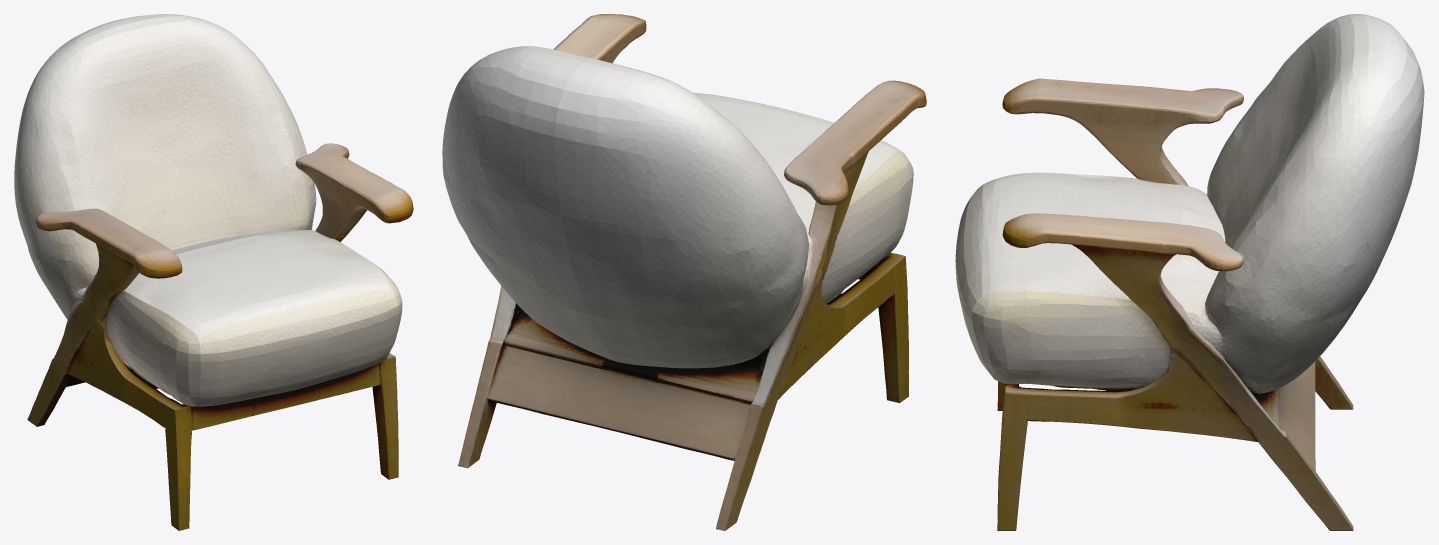
Rendered from SILLON AUREN.glb.
3 renders of one model, left to right at view 1: azimuth 30°, elevation 25°; view 2: azimuth 150°, elevation 25°; view 3: azimuth 270°, elevation 25°, orthographic. The views are drawn at different scales.
Visible parts, largest first — view 1: world; view 2: world; view 3: world.
Boxes of the visible parts, <box> form: world: <box>14,14,413,530</box>; world: <box>442,14,926,530</box>; world: <box>955,14,1424,530</box>.
Size of the model in its own units: 0.8843 by 1 by 0.9949.
Materials: 1 (1 with a texture image).
